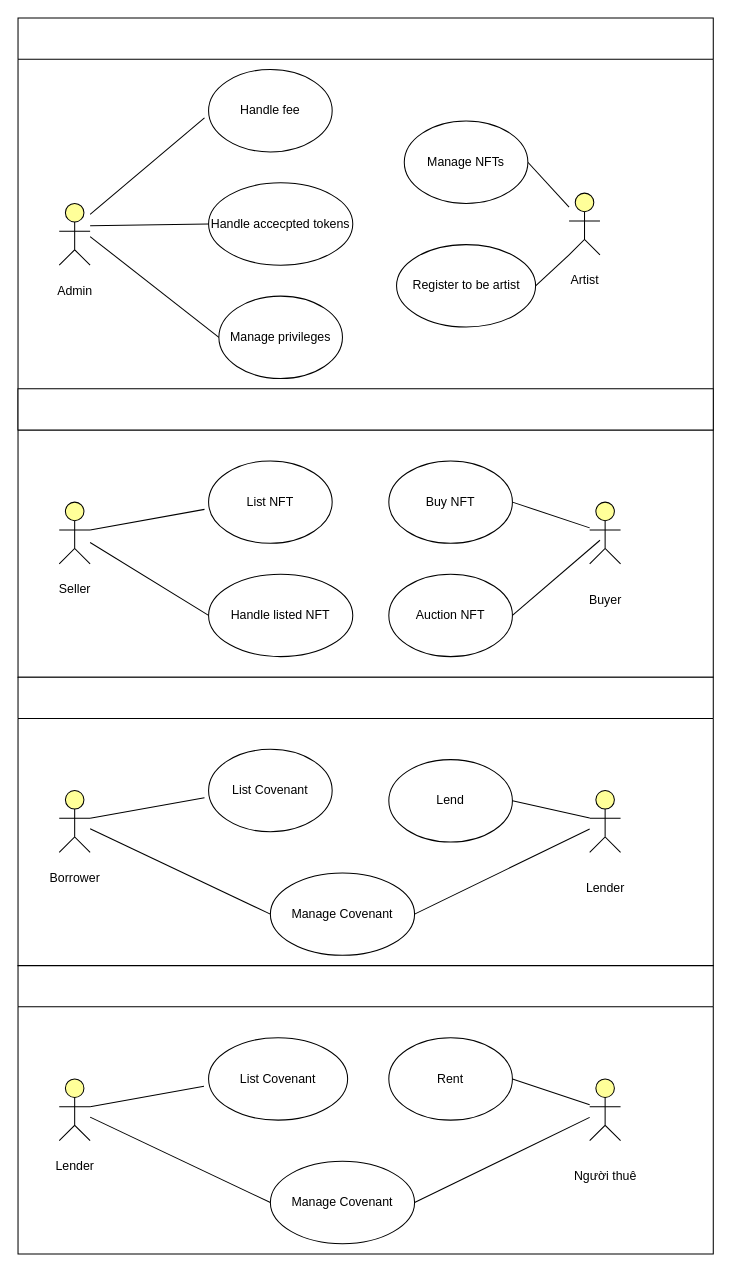
The diagram is 731 pixels wide and 1272 high, and some of its shapes have lost their labels. The shapes that lost their labels are listed below. From the top down, each one's box as (x1, y1, x2, y2) in pixels, then its label:
(17, 17, 713, 430): Hub use cases
(17, 388, 713, 677): Marketplace use cases
(17, 676, 713, 966): Loan use cases
(17, 965, 713, 1254): Rental use cases
